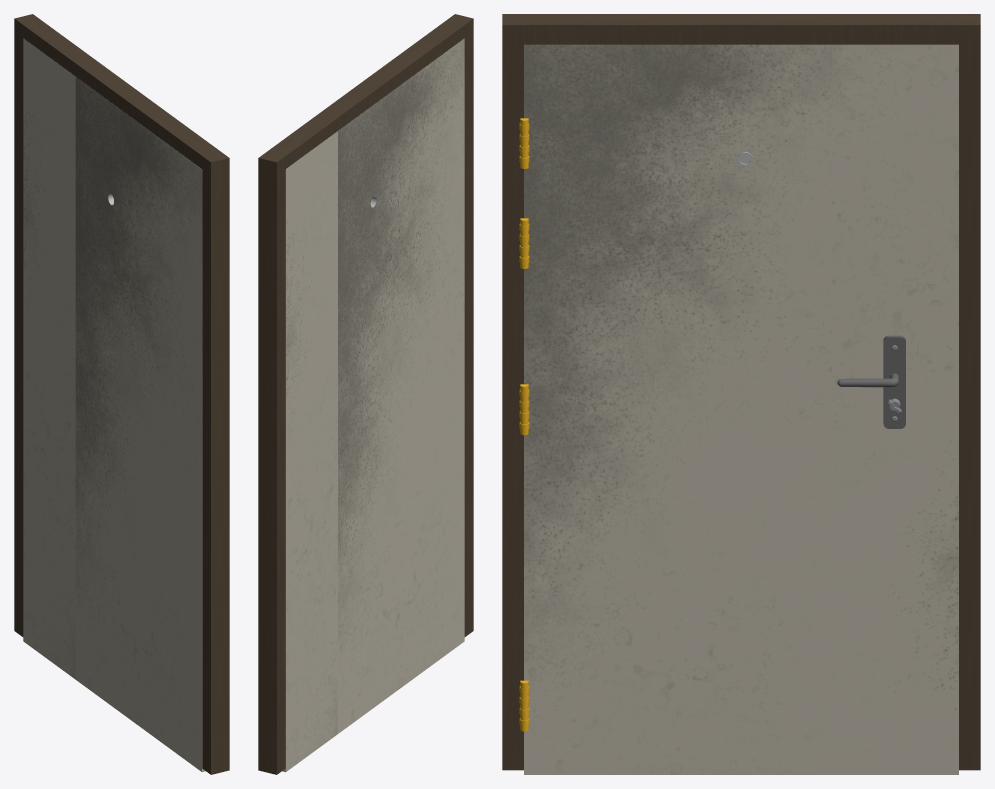
File: door.fbx
The picture shows the model from 3 angles, left to right: view 1: azimuth 30°, elevation 25°; view 2: azimuth 150°, elevation 25°; view 3: azimuth 270°, elevation 25°; orthographic projection. The views are drawn at different scales.
Parts seen in each view (by area): view 1: polySurface32, doorFrame; view 2: polySurface32, doorFrame; view 3: polySurface32, doorFrame.
Part boxes in pixels (bbox=[...]): polySurface32: bbox=[23, 38, 205, 772]; doorFrame: bbox=[14, 14, 229, 774]; polySurface32: bbox=[282, 38, 464, 772]; doorFrame: bbox=[258, 14, 473, 774]; polySurface32: bbox=[524, 44, 958, 774]; doorFrame: bbox=[502, 14, 980, 770].
Size of the model in its own units: 11.52 by 201 by 116.
